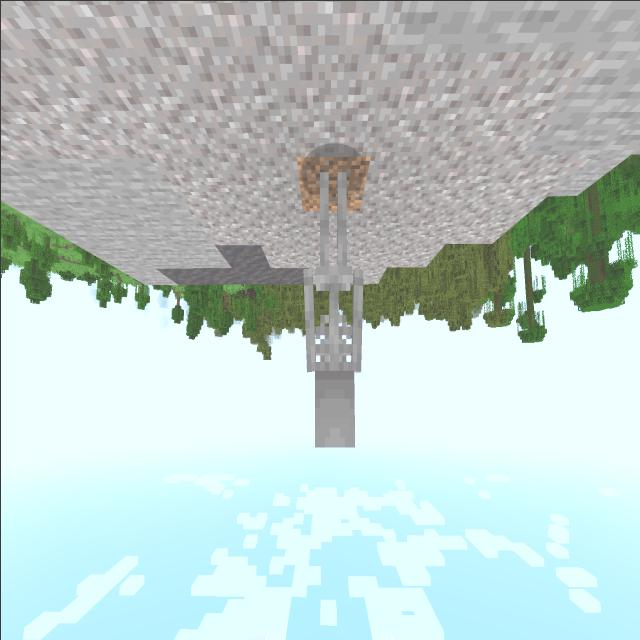Skeleton: (292, 146, 372, 464)
